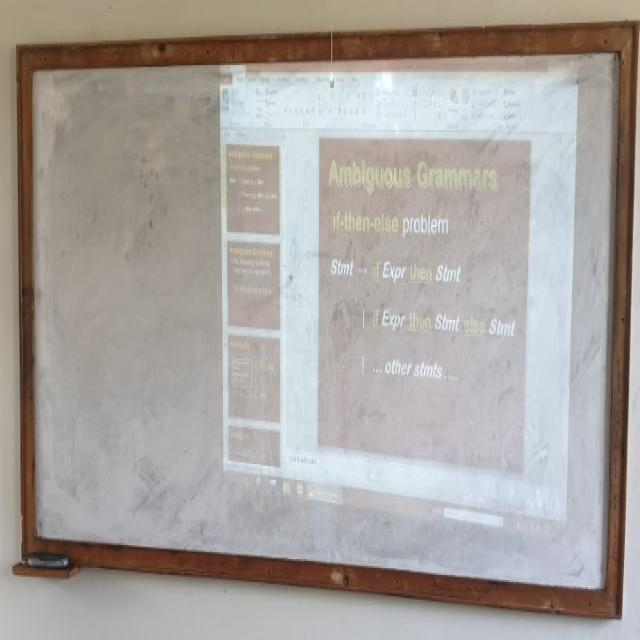Slide: (219, 56, 580, 549)
White-board: (27, 41, 627, 611)
